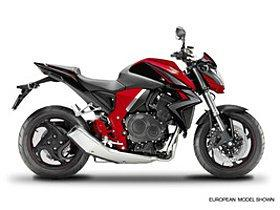motorcycle: (11, 21, 264, 184)
